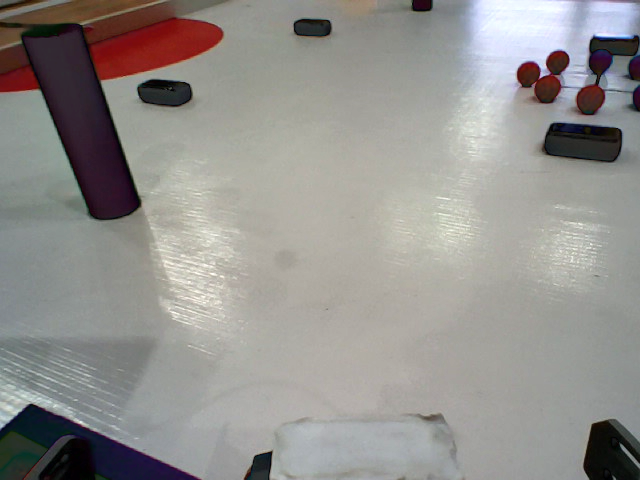black: (539, 121, 625, 162), (137, 77, 195, 108), (589, 31, 640, 53), (290, 16, 331, 35)
blue: (589, 49, 611, 69), (626, 53, 640, 77), (633, 82, 640, 106)
red: (577, 85, 605, 114), (546, 46, 572, 75), (536, 76, 558, 103), (518, 61, 541, 86)
zhuzi: (22, 21, 147, 219), (412, 1, 437, 13)
